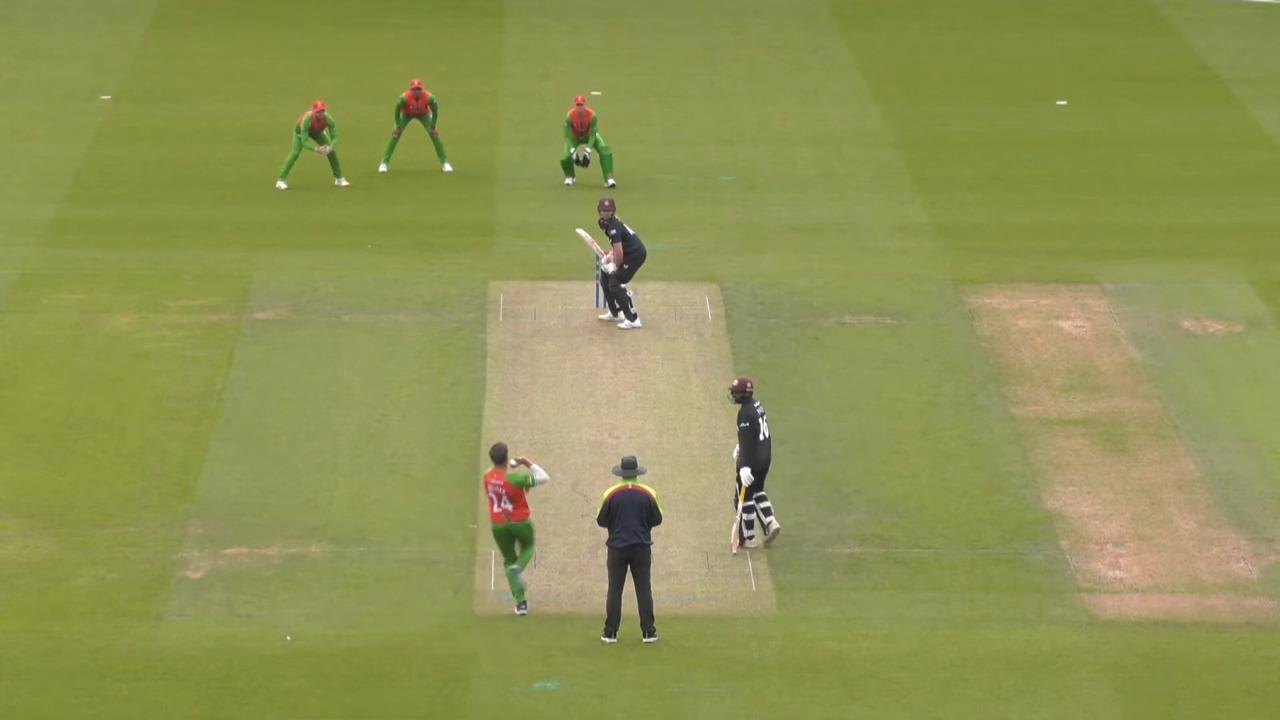sports ball: (510, 459, 516, 465)
